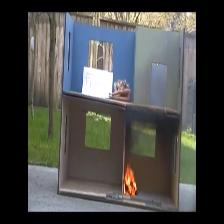fire: (125, 164, 137, 196)
